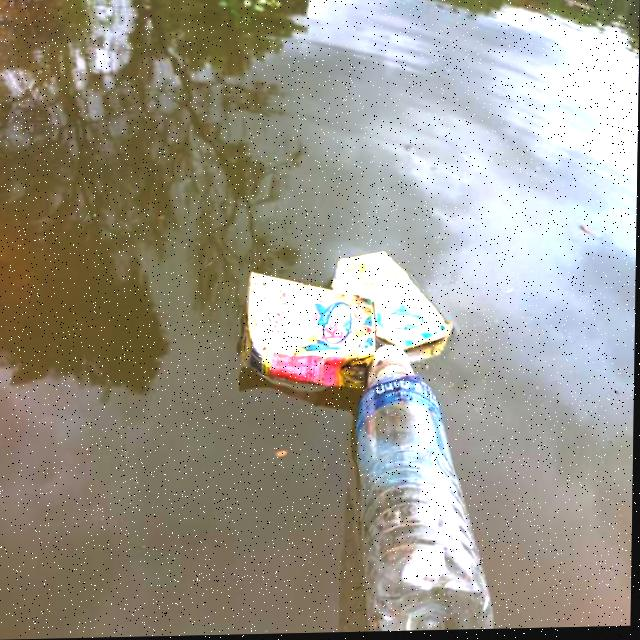paper: (209, 251, 384, 411), (338, 229, 447, 364)
waterbottle: (330, 333, 520, 634)
